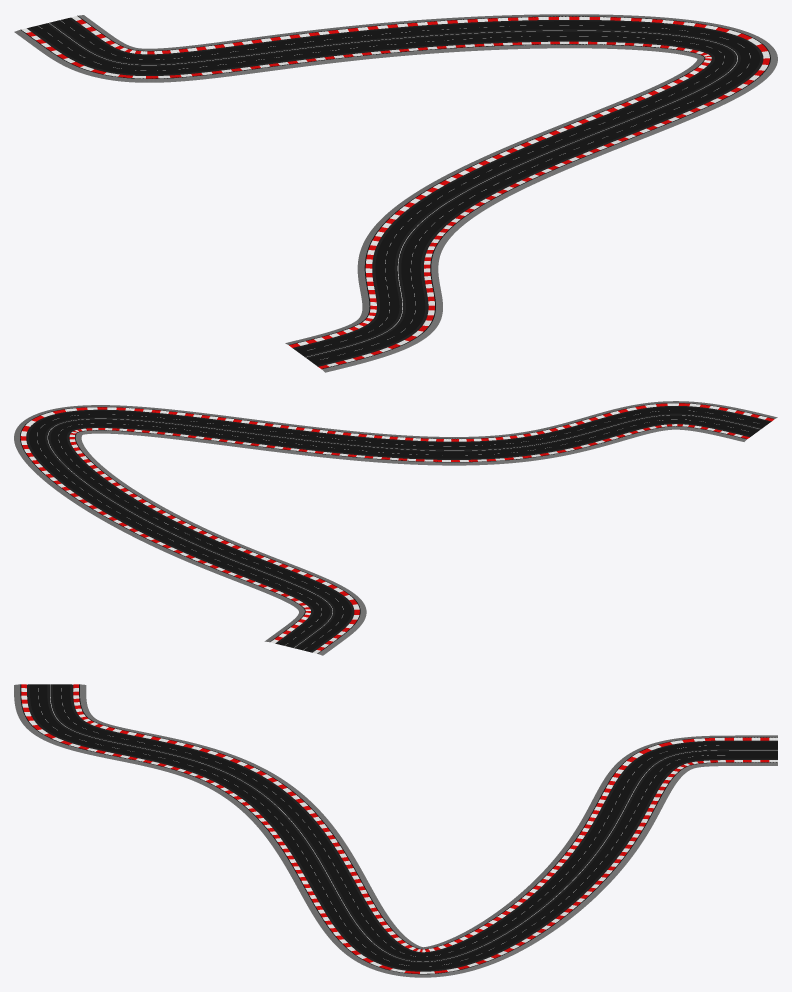
Rendered from S0.3c3h0-mue.glb.
3 views of the same model, one above another, from view 1: azimuth 30°, elevation 25°; view 2: azimuth 150°, elevation 25°; view 3: azimuth 270°, elevation 25° (orthographic). The views are drawn at different scales.
Visible parts, largest first — view 1: Grid; view 2: Grid; view 3: Grid.
Boxes of the visible parts, x1,y1,x2,y2 form: Grid: (14,14,777,372); Grid: (14,401,777,655); Grid: (14,684,777,977).
Size of the model in its own units: 240 by 0.31 by 265.
